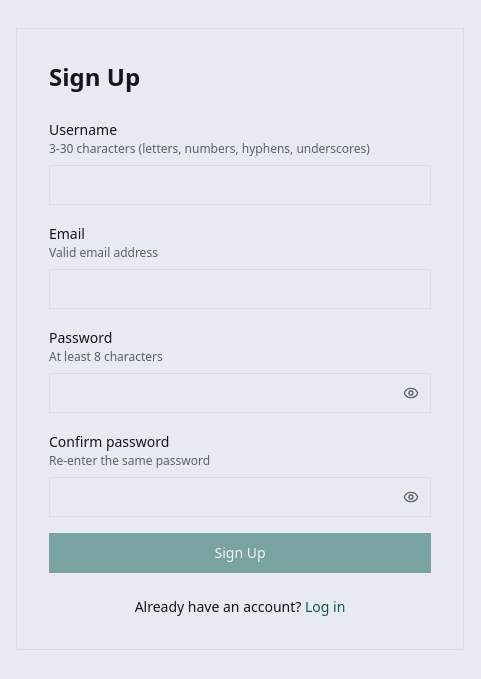
Scenario: SignupPage password confirmation › re-flags the mismatch when the password is edited after confirming
Step 1. Type "a-valid-password" into the password field labelled "Password" → (240, 393), box [49,373,431,413]
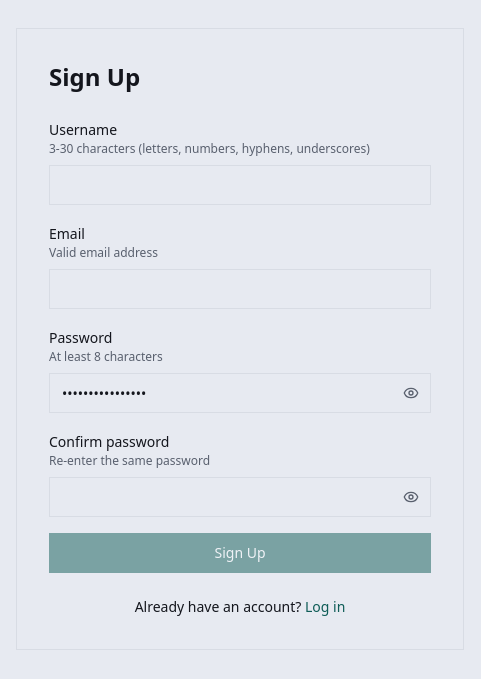
Step 2. Type "a-valid-password" into the password field labelled "Confirm password" → (240, 497), box [49,477,431,517]
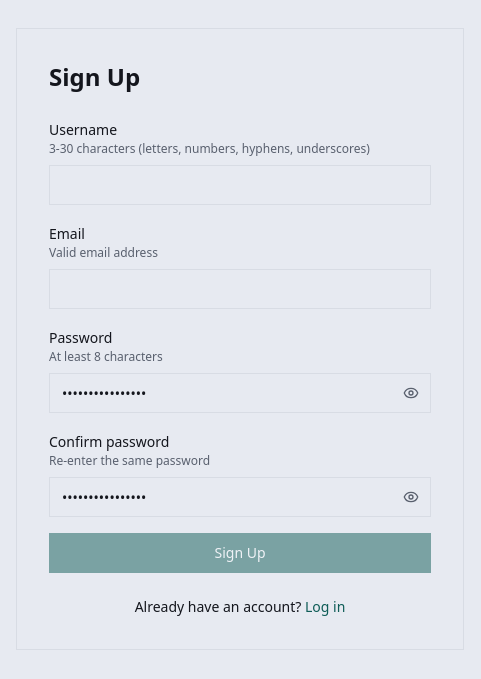
Expected: the text "Passwords do not match" is not shown
Step 3. Type "a-different-password" into the password field labelled "Password" → (240, 393), box [49,373,431,413]
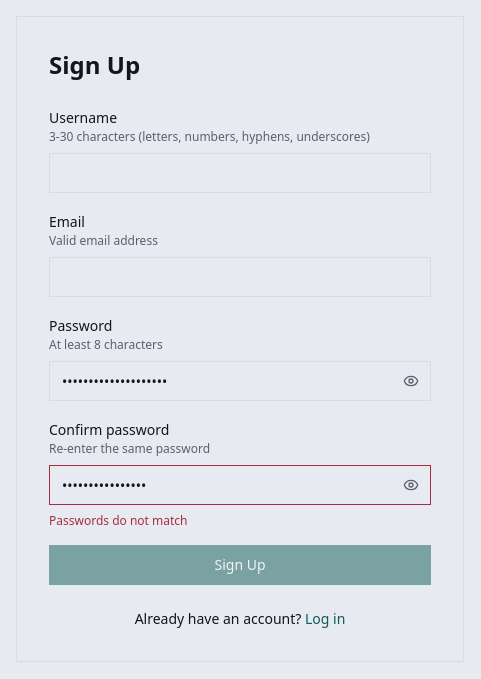
Expected: the text "Passwords do not match" is shown, [49,512,188,529]
